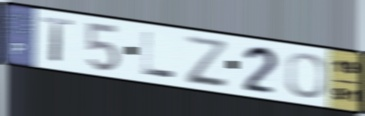2: (239, 43, 282, 98)
5: (84, 20, 123, 73)
L: (141, 29, 177, 81)
O: (285, 51, 328, 100)
T: (40, 14, 75, 66)
Z: (183, 33, 230, 87)
